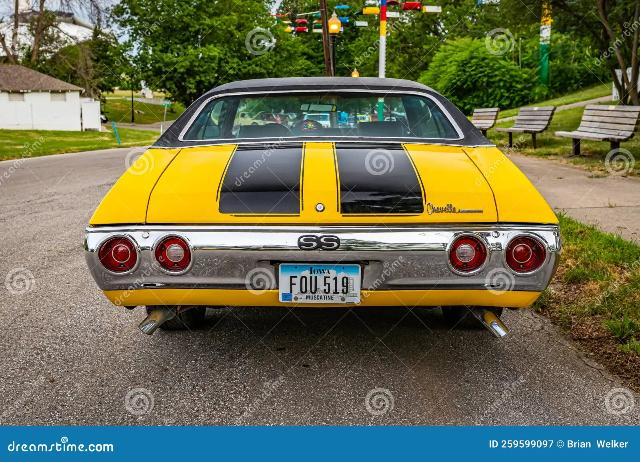chevelle-1972: (84, 77, 561, 334)
